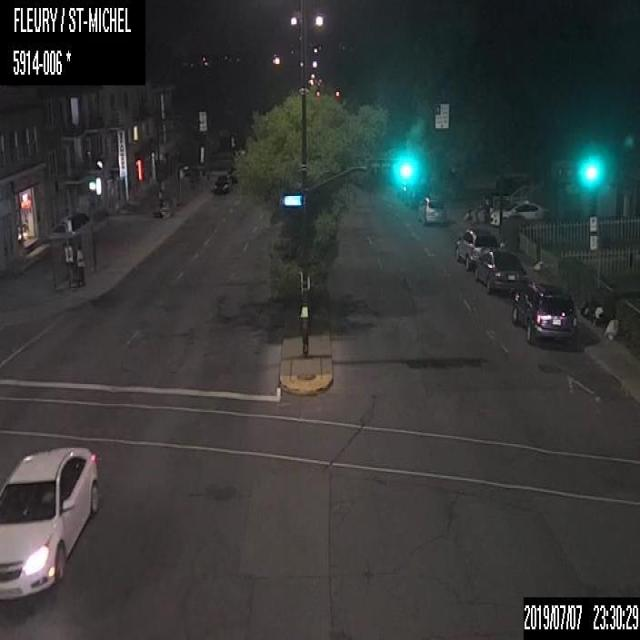pedestrian: (76, 242, 88, 286)
vehicle: (0, 442, 100, 602), (510, 278, 574, 343), (469, 244, 528, 296), (454, 226, 498, 269), (490, 196, 550, 223), (418, 198, 446, 226), (214, 173, 232, 193)
